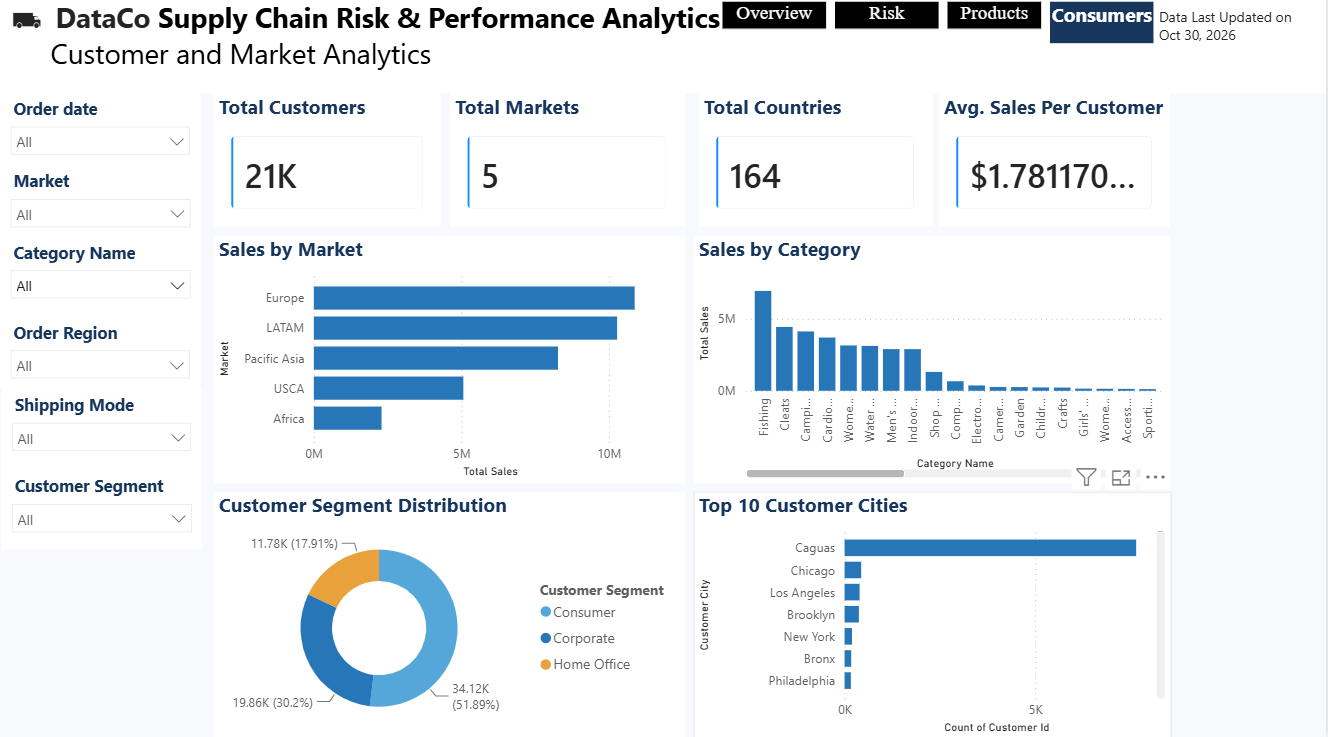

This screenshot's page, from the dashboard's own definition file:
{"tool":"powerbi","page":{"name":"Customer and Market Analytics","canvas":[1280,720],"ordinal":4},"visuals":[{"type":"textbox","box":[0,0,1280,96.7],"z":0},{"type":"actionButton","title":"Consumers  ","box":[1013.4,8.4,100.1,39.8],"z":1000},{"type":"actionButton","title":"Products","box":[914.5,8.4,90.5,39.8],"z":2000},{"type":"actionButton","title":"Risk","box":[805.9,8.4,100,40],"z":3000},{"type":"actionButton","title":"Overview","box":[697.3,8.4,100,40],"z":4000},{"type":"textbox","box":[1113.8,8.8,140,60],"z":5000},{"type":"slicer","fields":{"Values":["final_supply_chain_dashboard.Market"]},"box":[0,165.3,193.8,68.8],"z":6000},{"type":"slicer","fields":{"Values":["final_supply_chain_dashboard.Category Name"]},"box":[0,234,193.8,77.5],"z":7000},{"type":"slicer","fields":{"Values":["final_supply_chain_dashboard.Order Region"]},"box":[0,311.3,193.2,69.7],"z":8000},{"type":"slicer","fields":{"Values":["final_supply_chain_dashboard.Shipping Mode"]},"box":[1.2,381.2,193.2,78.3],"z":9000},{"type":"slicer","fields":{"Values":["final_supply_chain_dashboard.Customer Segment"]},"box":[1.2,459.7,193.8,77.5],"z":10000},{"type":"slicer","title":"Order Date","fields":{"Values":["final_supply_chain_dashboard.order date"]},"box":[0,95.3,193.2,69.7],"z":11000},{"type":"cardVisual","title":"Total Customers","fields":{"Data":["final_supply_chain_dashboard.Total Customers"]},"box":[206.3,96.5,219.6,129.1],"z":12000},{"type":"cardVisual","title":"Total Markets","fields":{"Data":["final_supply_chain_dashboard.Total Markets"]},"box":[434.3,96.5,226.8,129.1],"z":13000},{"type":"cardVisual","title":"Total Countries","fields":{"Data":["final_supply_chain_dashboard.Total Countries"]},"box":[674.4,96.5,225.6,129.1],"z":14000},{"type":"cardVisual","title":"Avg. Sales Per Customer","fields":{"Data":["final_supply_chain_dashboard.Average Sales per Customer"]},"box":[906,96.5,223.2,129.1],"z":15000},{"type":"clusteredBarChart","title":"Sales by Market","fields":{"Category":["final_supply_chain_dashboard.Market"],"Y":["final_supply_chain_dashboard.Total Sales"]},"box":[206.7,234.4,455.6,238.9],"z":16000},{"type":"clusteredColumnChart","title":"Sales by Category","fields":{"Category":["final_supply_chain_dashboard.Category Name"],"Y":["final_supply_chain_dashboard.Total Sales"]},"box":[670,234.4,460,238.9],"z":17000},{"type":"donutChart","title":"Customer Segment Distribution","fields":{"Category":["final_supply_chain_dashboard.Customer Segment"],"Y":["Count(final_supply_chain_dashboard.Order Id)"]},"box":[206.7,481.1,455.6,238.9],"z":18000},{"type":"clusteredBarChart","title":"Top 10 Customer Cities","fields":{"Category":["final_supply_chain_dashboard.Customer City"],"Y":["Count(final_supply_chain_dashboard.Customer Id)"]},"box":[670,481.1,460,238.9],"z":19000}]}

Visuals, with their boxes in screenshot pixels (x1, y1, x2, y2), scaled from the page's 1280x720 canvas onto the 1328x737 screenshot:
textbox: <region>0, 0, 1327, 99</region>
"Consumers  " actionButton: <region>1051, 9, 1155, 49</region>
"Products" actionButton: <region>949, 9, 1043, 49</region>
"Risk" actionButton: <region>836, 9, 940, 50</region>
"Overview" actionButton: <region>723, 9, 827, 50</region>
textbox: <region>1156, 9, 1301, 70</region>
slicer - final_supply_chain_dashboard.Market: <region>0, 169, 201, 240</region>
slicer - final_supply_chain_dashboard.Category Name: <region>0, 240, 201, 319</region>
slicer - final_supply_chain_dashboard.Order Region: <region>0, 319, 200, 390</region>
slicer - final_supply_chain_dashboard.Shipping Mode: <region>1, 390, 202, 470</region>
slicer - final_supply_chain_dashboard.Customer Segment: <region>1, 471, 202, 550</region>
"Order Date" slicer: <region>0, 98, 200, 169</region>
"Total Customers" cardVisual: <region>214, 99, 442, 231</region>
"Total Markets" cardVisual: <region>451, 99, 686, 231</region>
"Total Countries" cardVisual: <region>700, 99, 934, 231</region>
"Avg. Sales Per Customer" cardVisual: <region>940, 99, 1172, 231</region>
"Sales by Market" clusteredBarChart: <region>214, 240, 687, 484</region>
"Sales by Category" clusteredColumnChart: <region>695, 240, 1172, 484</region>
"Customer Segment Distribution" donutChart: <region>214, 492, 687, 736</region>
"Top 10 Customer Cities" clusteredBarChart: <region>695, 492, 1172, 736</region>
